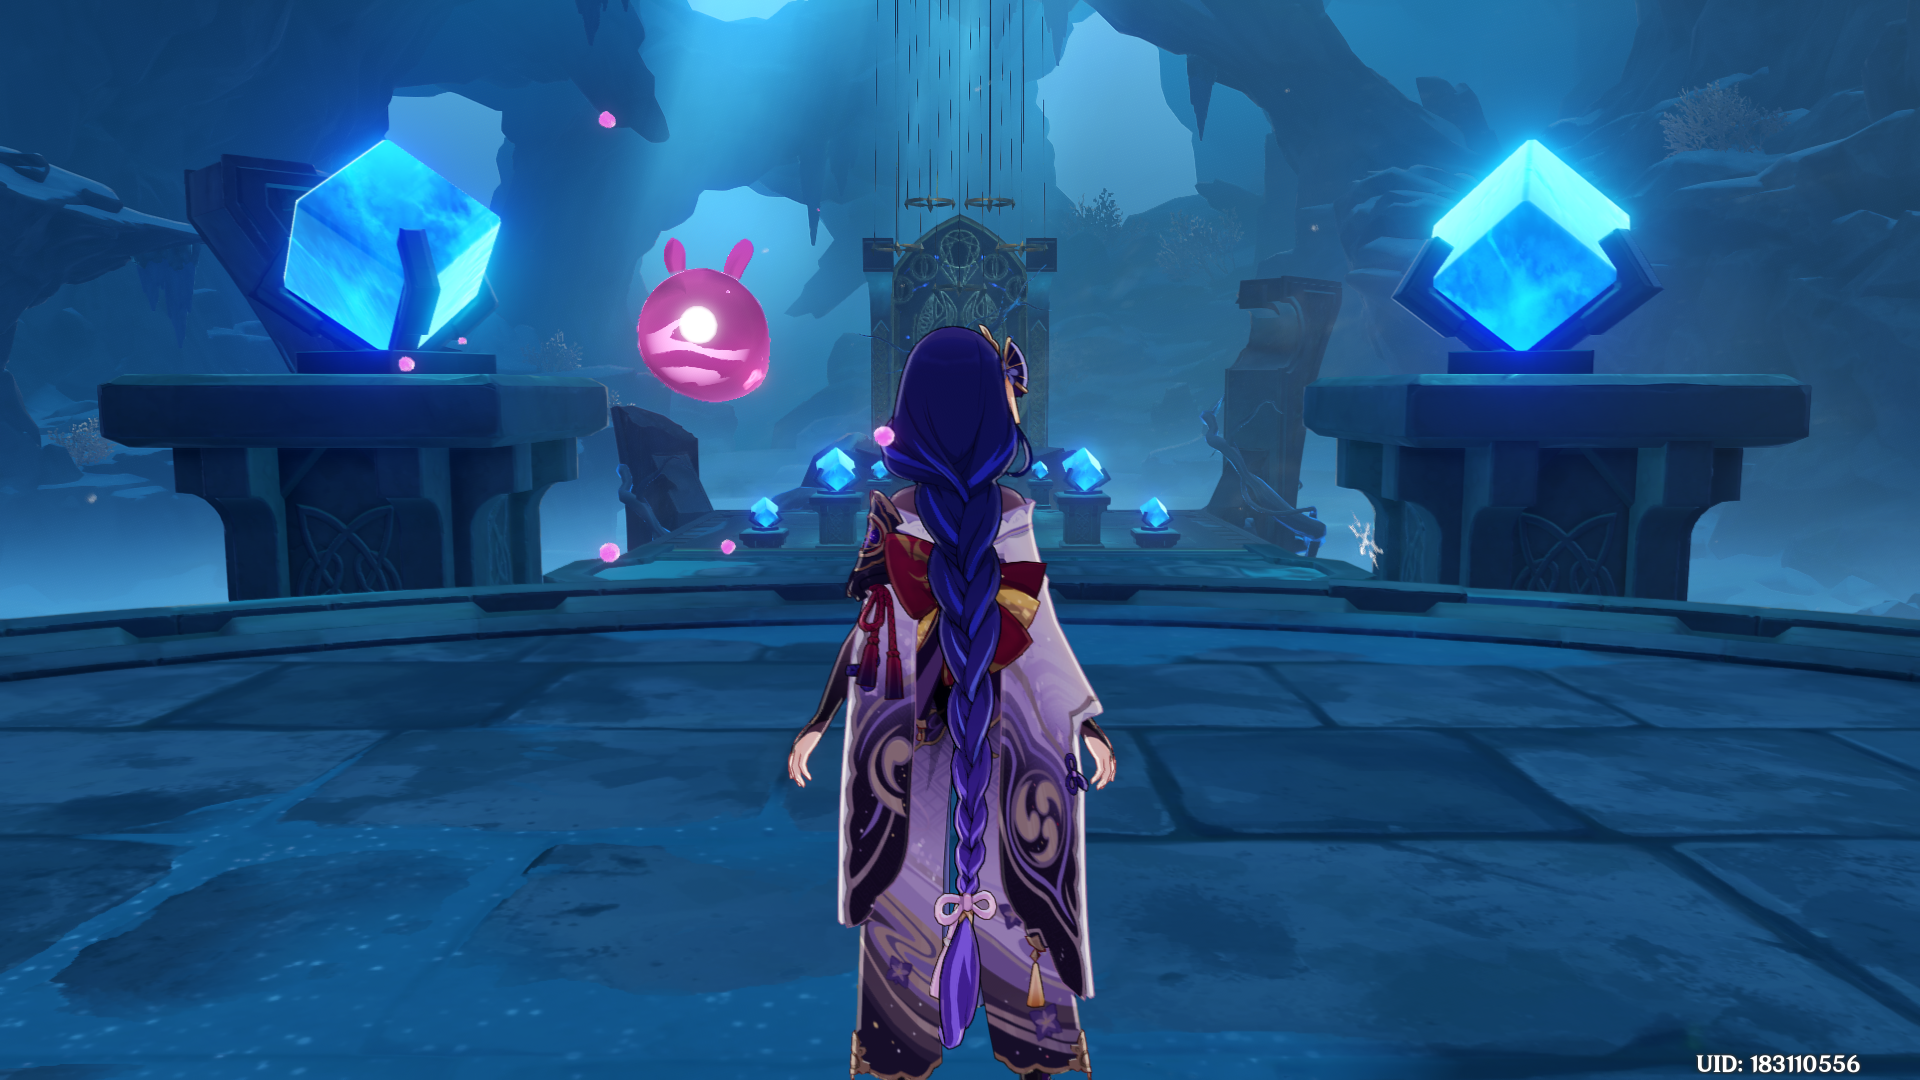character: (761, 258, 1179, 1080)
